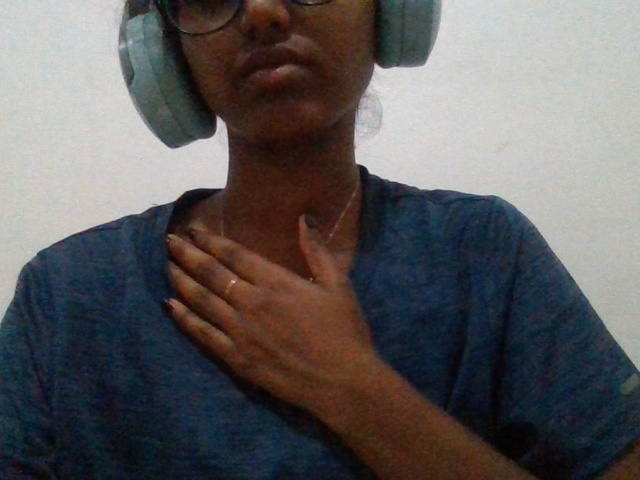Please: (126, 207, 428, 443)
